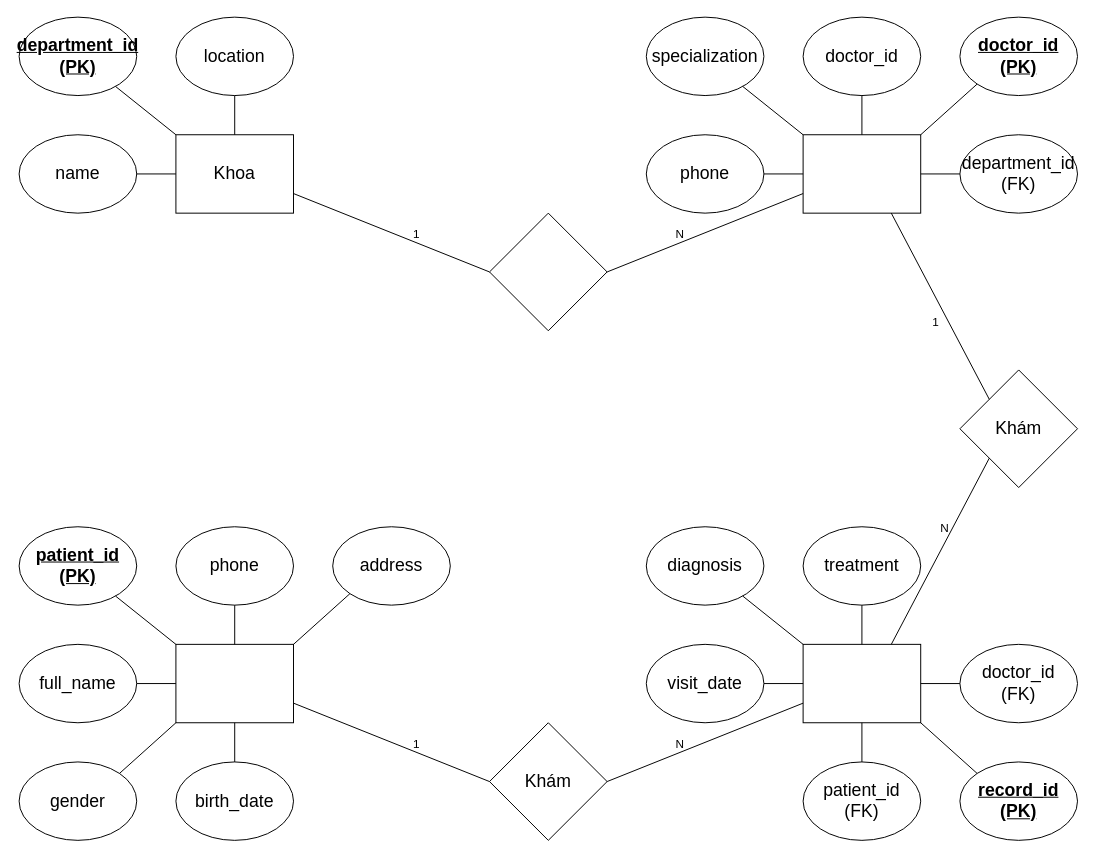
This 1095x858 diagram has some shape labels left out. Here are the shapes that lost their labels. From the top down, the centre of each, then its label:
At point (861, 173): "Bác sĩ".
At point (548, 271): "Thuộc".
At point (234, 683): "Bệnh nhân".
At point (861, 683): "Hồ sơ khám bệnh".
